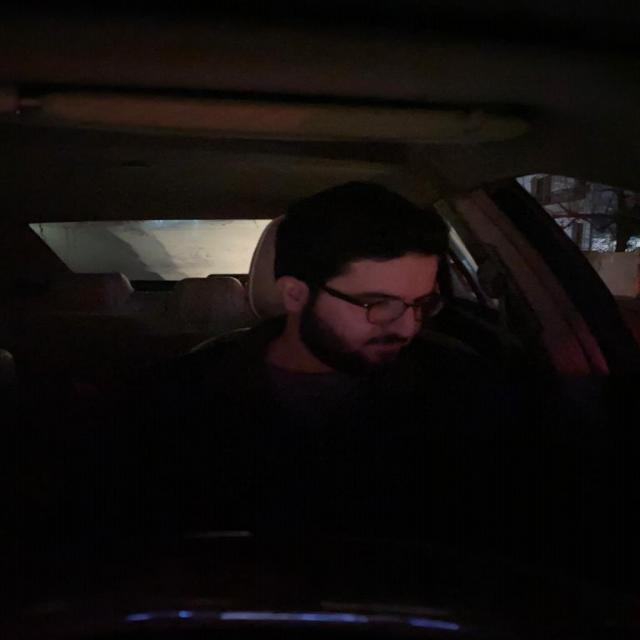drowsy: (278, 204, 460, 376)
